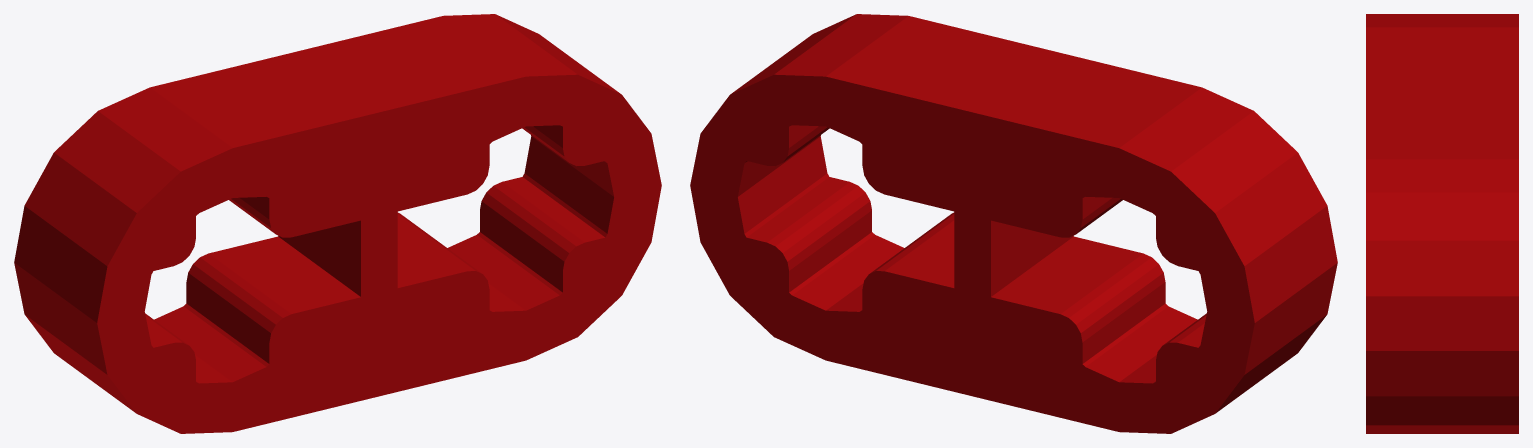
The model's file is 41677 lever 2M.dae.
3 views of the same model, side by side, from view 1: azimuth 30°, elevation 25°; view 2: azimuth 150°, elevation 25°; view 3: azimuth 270°, elevation 25° (orthographic). The views are drawn at different scales.
Visible parts, largest first — view 1: Part_41677.1; view 2: Part_41677.1; view 3: Part_41677.1.
Part boxes in pixels (left/top/right/bottom): Part_41677.1: left=14, top=14, right=661, bottom=433; Part_41677.1: left=690, top=14, right=1337, bottom=433; Part_41677.1: left=1366, top=14, right=1518, bottom=433.
Size of the model in its own units: 15.4 by 7.4 by 3.92.
